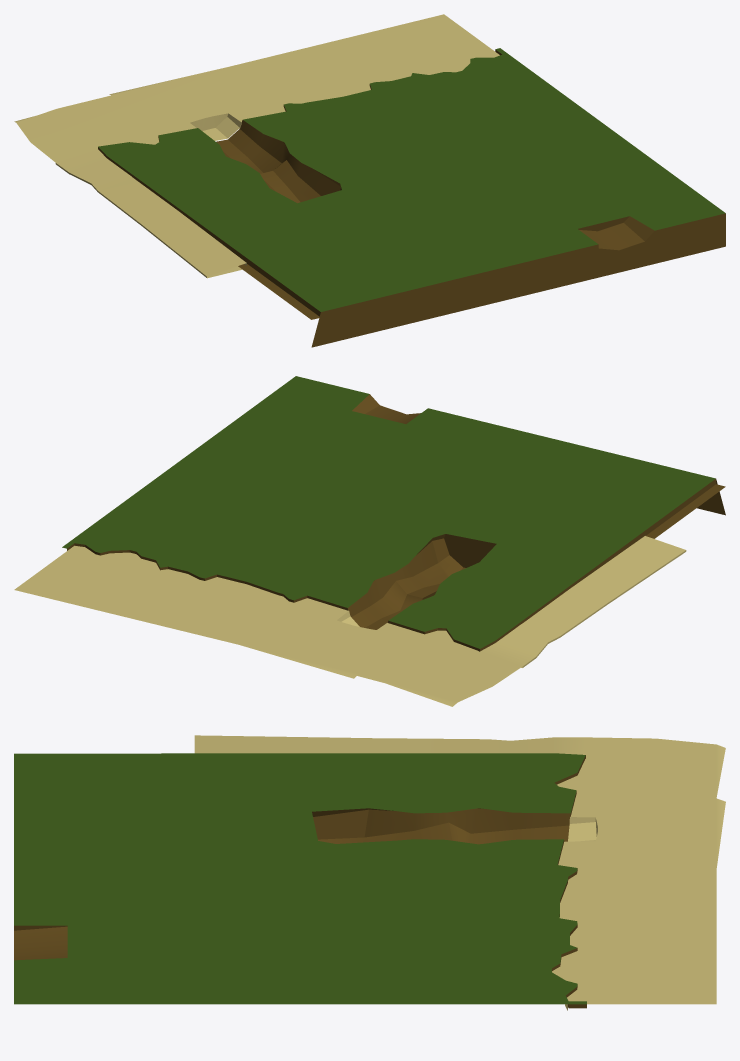
Rendered from GroundCollider.fbx.
3 views of the same model, one above another, from view 1: azimuth 30°, elevation 25°; view 2: azimuth 150°, elevation 25°; view 3: azimuth 270°, elevation 25° (orthographic). The views are drawn at different scales.
Visible parts, largest first — view 1: GroundCollider; view 2: GroundCollider; view 3: GroundCollider.
Boxes of the visible parts, box(x1,y1,x2,y2) form: GroundCollider: box(14, 14, 725, 347); GroundCollider: box(14, 376, 725, 706); GroundCollider: box(14, 735, 725, 1010).
Bounding box in the file's own units: 8980 × 638 × 9751.
